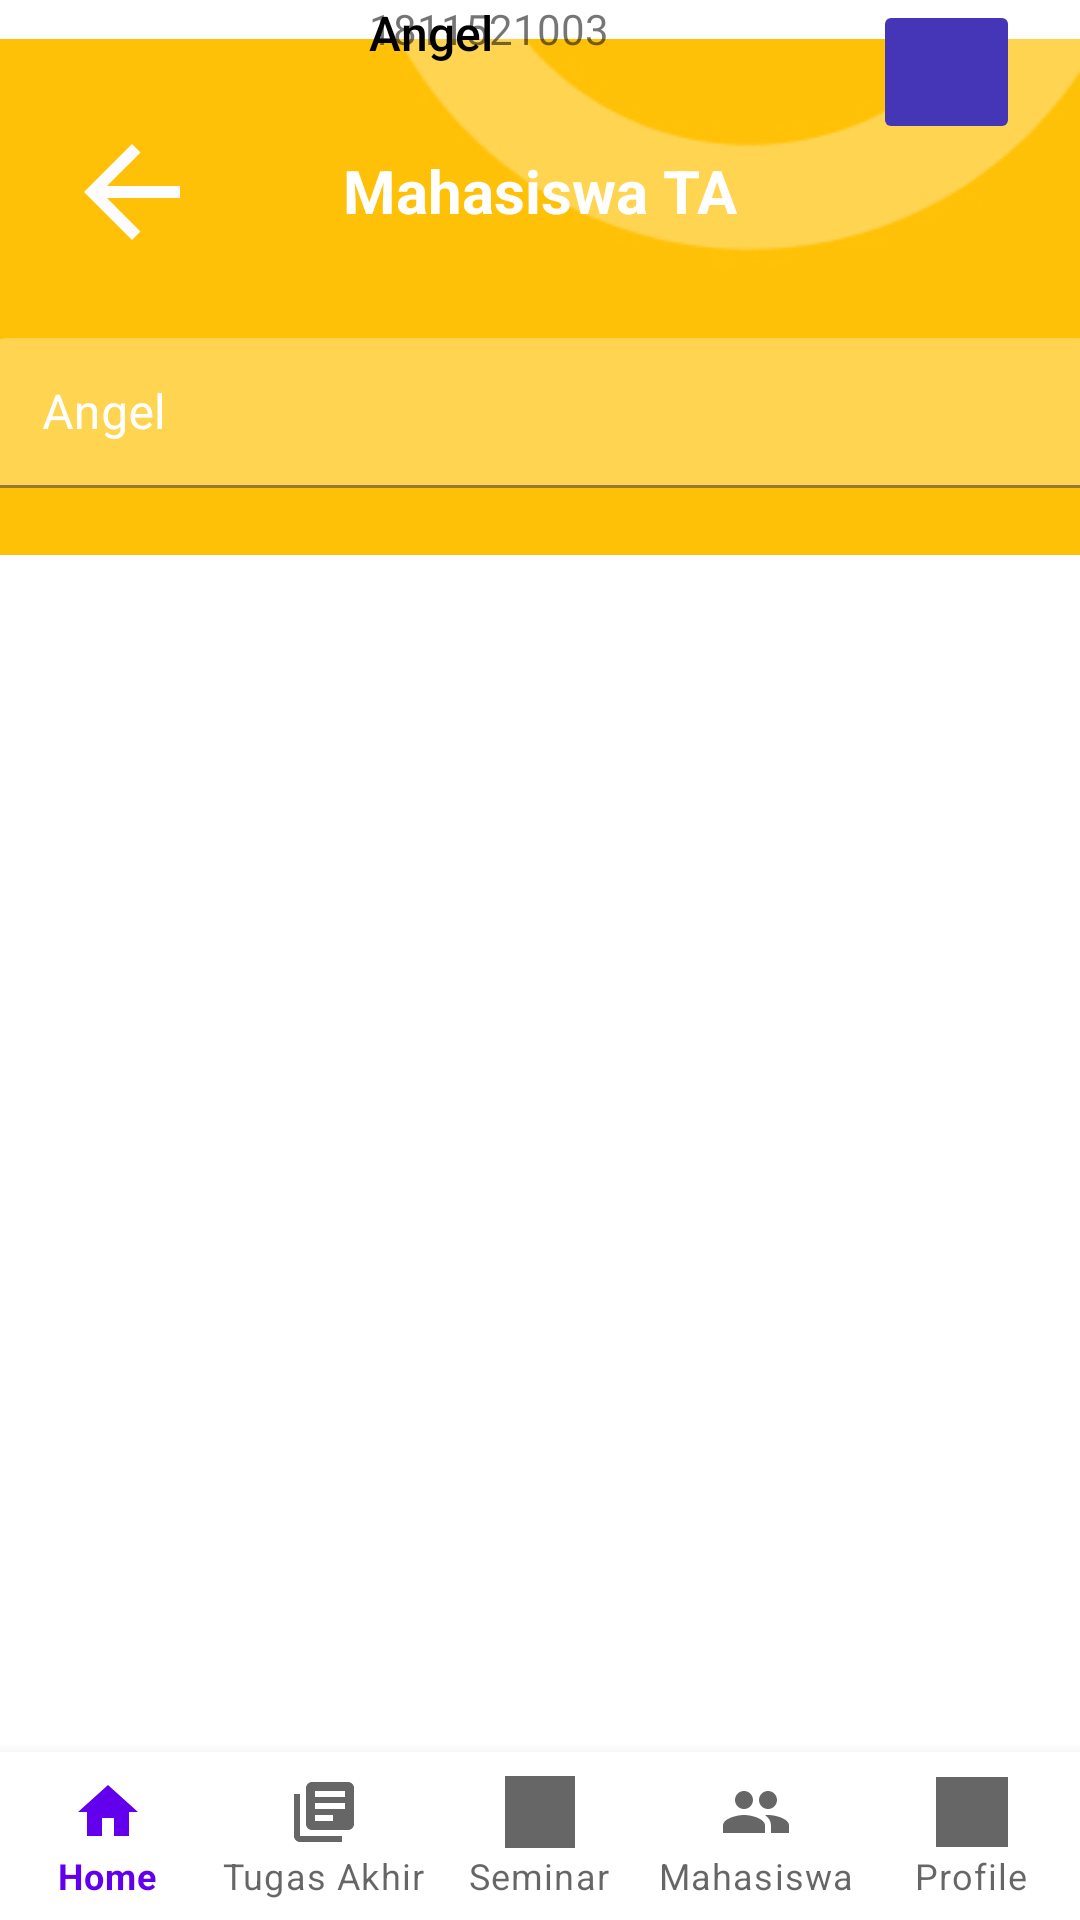

Icon click points for this 1080 × 1920 phone screenshot, format [x,y]:
arrow left: [132,192]
